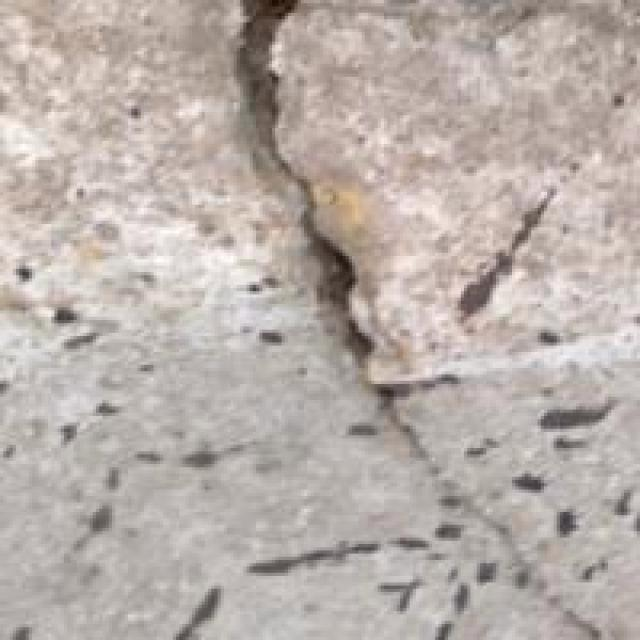crack: (216, 0, 450, 492)
